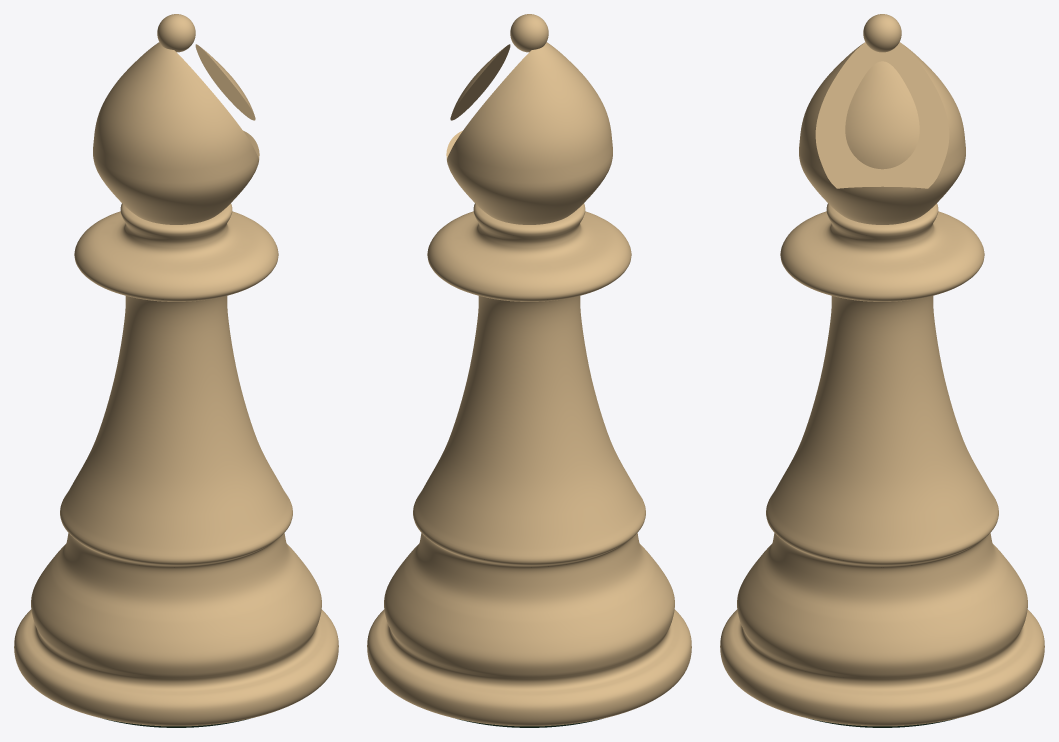
The model's file is bishop.glb.
3 renders of one model, left to right at view 1: azimuth 30°, elevation 25°; view 2: azimuth 150°, elevation 25°; view 3: azimuth 270°, elevation 25°, orthographic.
Parts seen in each view (by area): view 1: Staunton Bishop.001; view 2: Staunton Bishop.001; view 3: Staunton Bishop.001.
Part boxes in pixels (box(x1,y1,x2,y2)): Staunton Bishop.001: box(14, 14, 338, 727); Staunton Bishop.001: box(367, 14, 691, 727); Staunton Bishop.001: box(720, 14, 1044, 727).
Size of the model in its own units: 0.0354 by 0.0789 by 0.0354.
